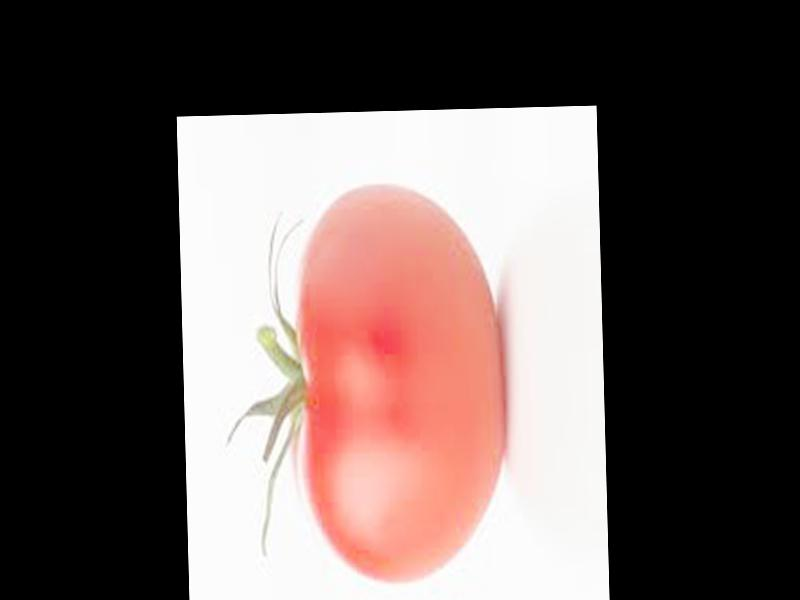Tomato: (292, 184, 508, 585)
